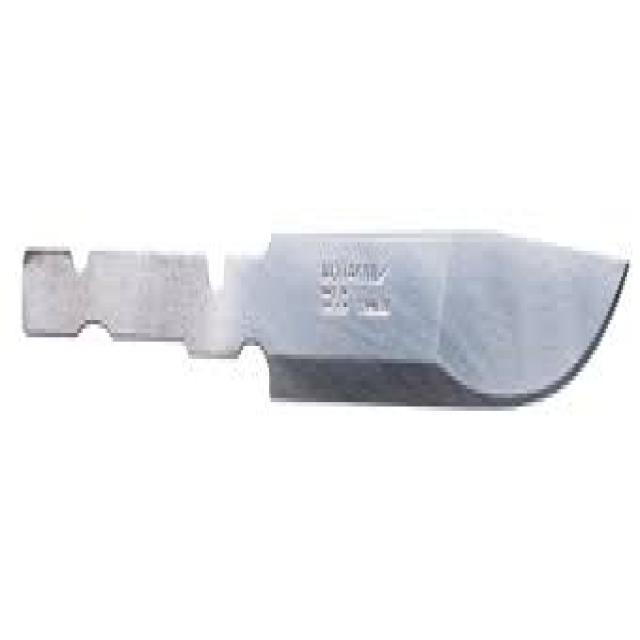knives: (19, 212, 630, 415)
